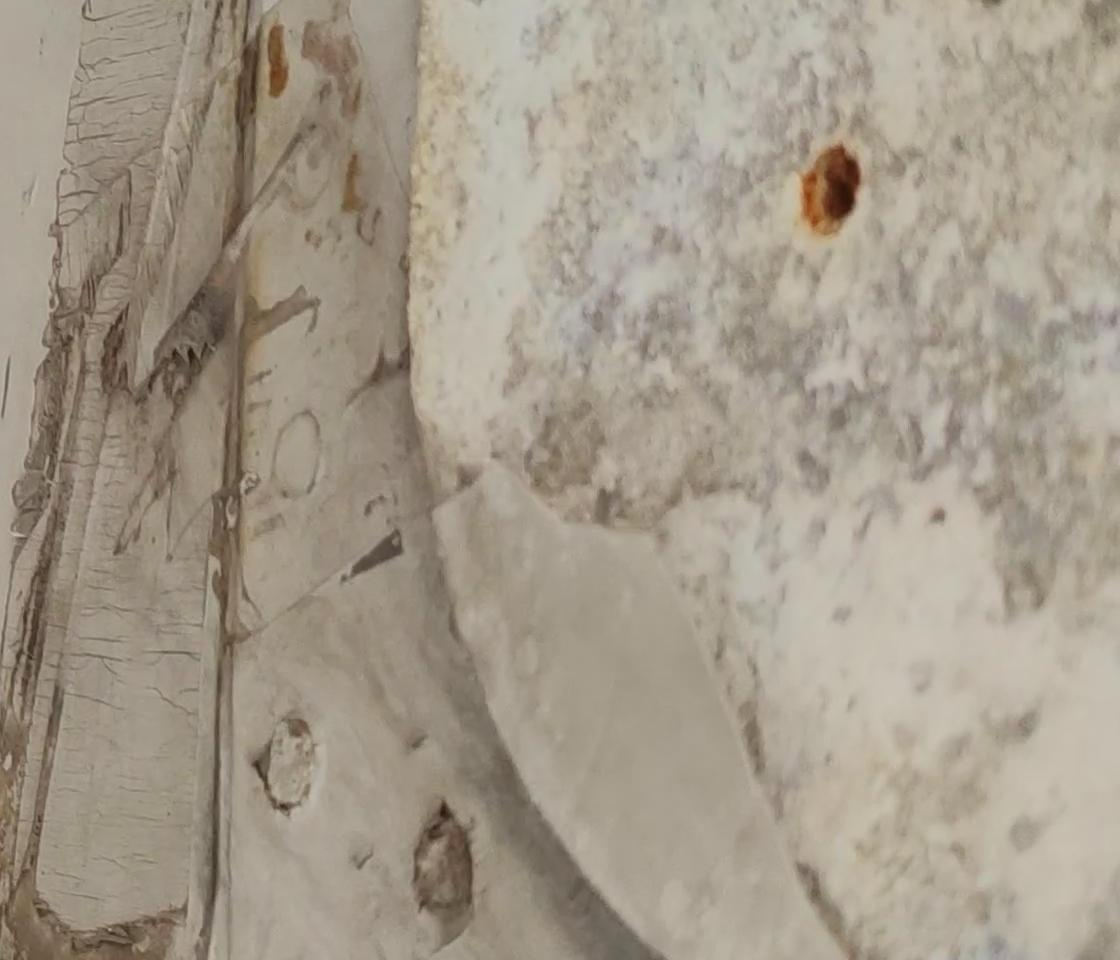rust: (805, 147, 863, 231)
